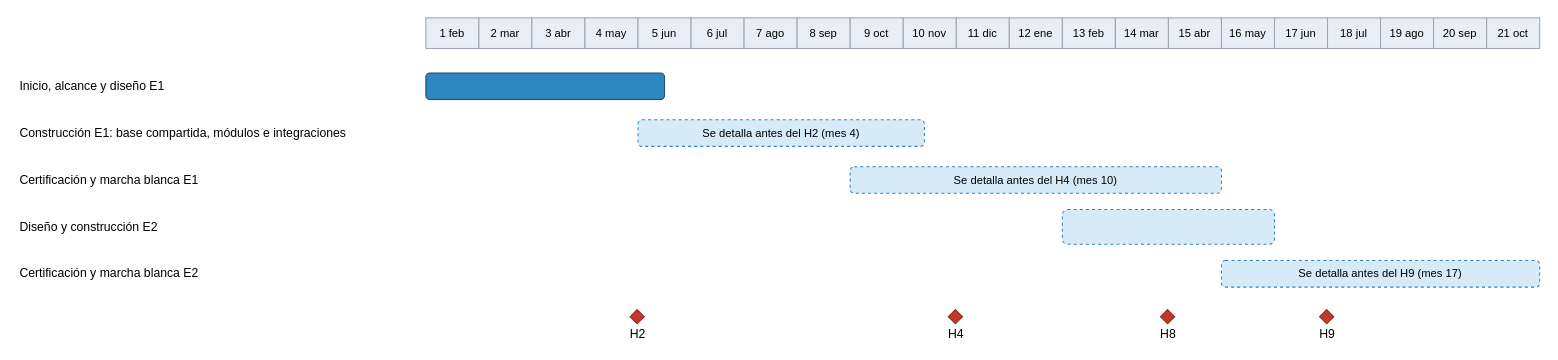
Image size: 1558x360. Some labels were removed from this diagram. The centre of each missing label's shape, as x and y in pixels:
Actividades de 8 a 80 HH: point (545, 85)
Se detalla antes del H8 (mes 14), con la línea base E2: point (1167, 226)
